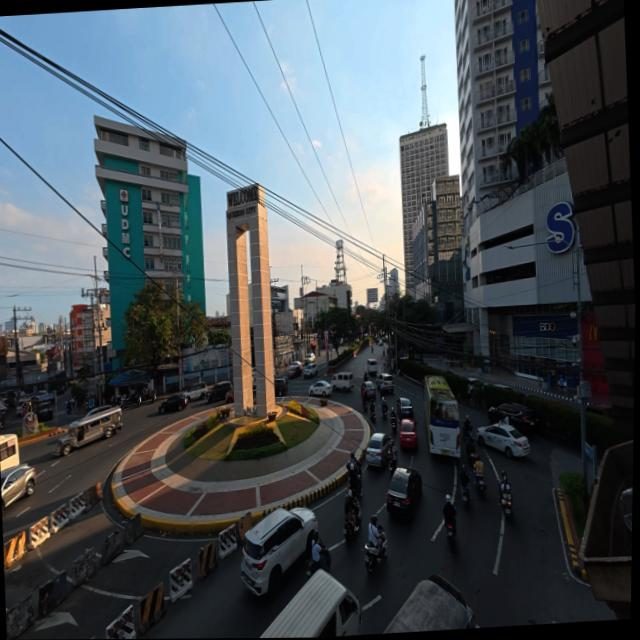Jeepneys: (384, 575, 479, 633), (53, 407, 122, 456)
bus: (424, 376, 461, 458), (0, 434, 19, 471)
car: (241, 508, 317, 595), (476, 423, 529, 458), (386, 468, 422, 518), (1, 464, 36, 515), (488, 403, 538, 434), (365, 433, 391, 467), (205, 380, 233, 403), (399, 418, 417, 449), (183, 382, 208, 402), (158, 396, 186, 413), (586, 403, 613, 418), (83, 405, 116, 417), (309, 381, 332, 397), (35, 403, 53, 422), (377, 373, 394, 393), (397, 398, 413, 419), (468, 377, 484, 393), (274, 378, 288, 396), (16, 399, 30, 416), (303, 363, 318, 378), (288, 364, 303, 378), (364, 381, 376, 398), (225, 389, 234, 403), (305, 353, 316, 364), (36, 391, 48, 401), (56, 385, 66, 395), (291, 361, 302, 366), (378, 339, 384, 346), (339, 338, 343, 346), (355, 338, 359, 343)
motorcycle: (365, 526, 387, 573), (501, 491, 512, 518), (344, 517, 355, 542), (445, 522, 455, 548), (466, 439, 475, 466), (388, 454, 397, 475), (477, 473, 486, 494), (462, 486, 470, 509), (147, 389, 158, 404), (324, 551, 331, 572), (166, 384, 178, 394), (362, 397, 369, 413), (391, 417, 397, 435), (382, 403, 388, 418), (370, 409, 376, 422), (67, 401, 71, 414), (363, 371, 368, 381)
vans: (262, 571, 361, 637), (331, 372, 354, 390), (367, 358, 378, 376)
